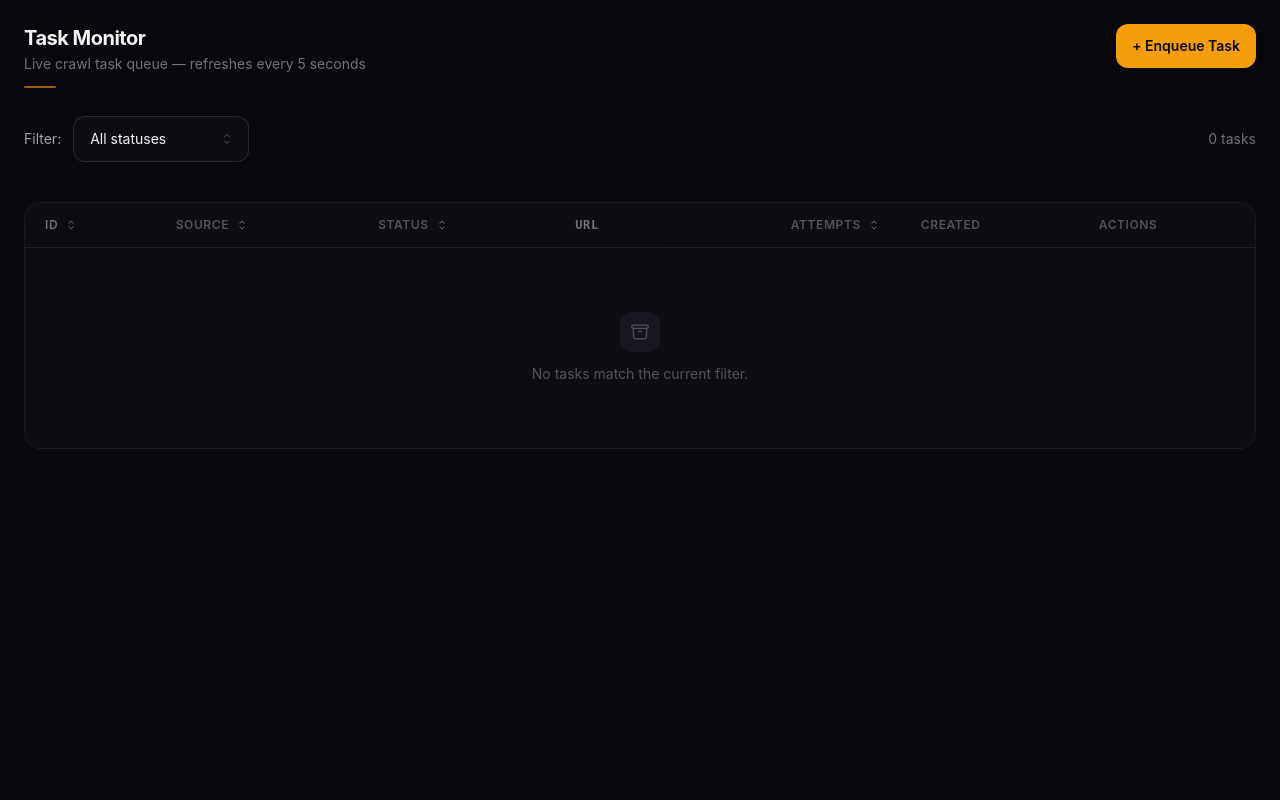
Test case: TaskMonitorPage — enqueue modal › opens Enqueue Task modal on button click
Click the button "+ Enqueue Task": (1186, 46) [1116,24,1256,68]
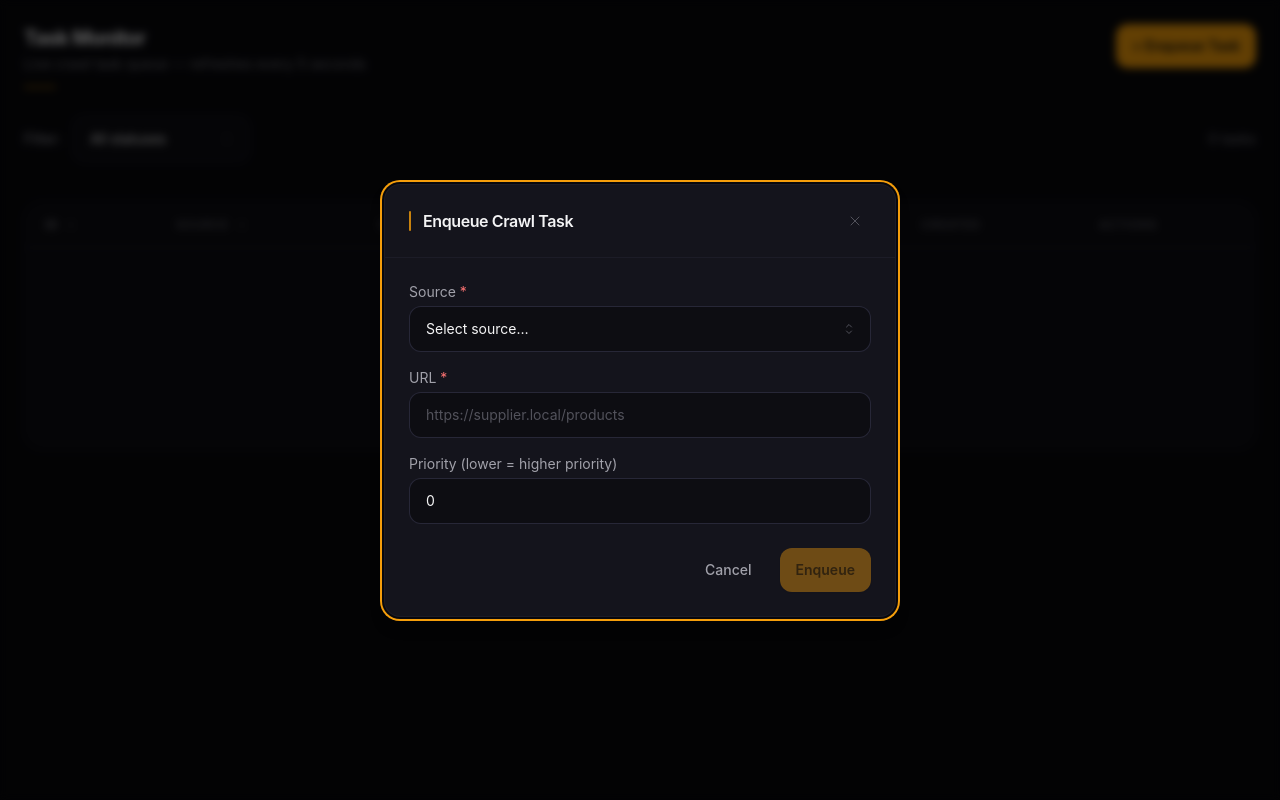
Now the heading "Enqueue Crawl Task" is shown, box [423,208,573,232]
